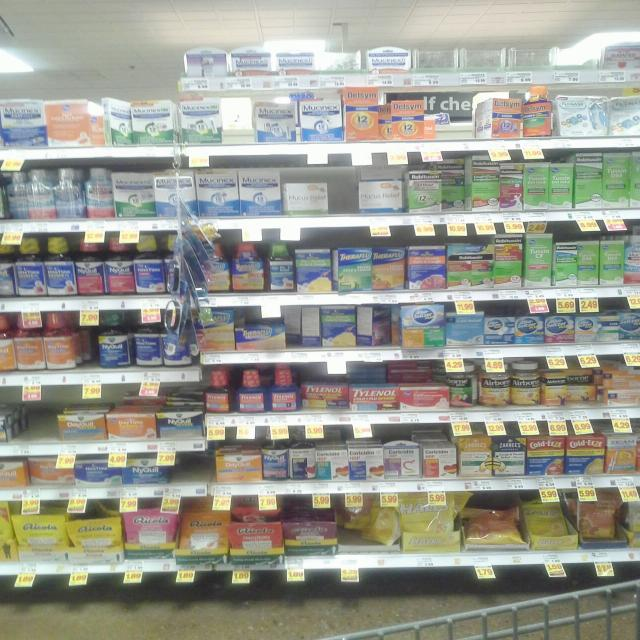empty_space: (330, 180, 366, 212), (21, 405, 51, 439)
